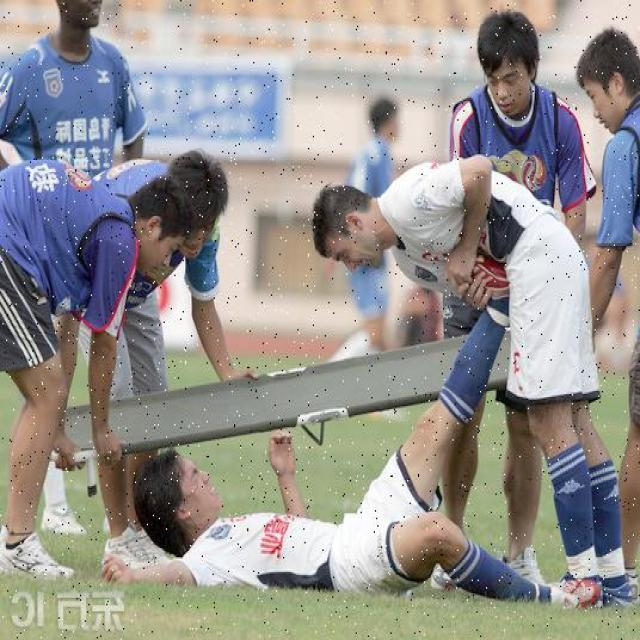fall: (138, 394, 514, 595)
